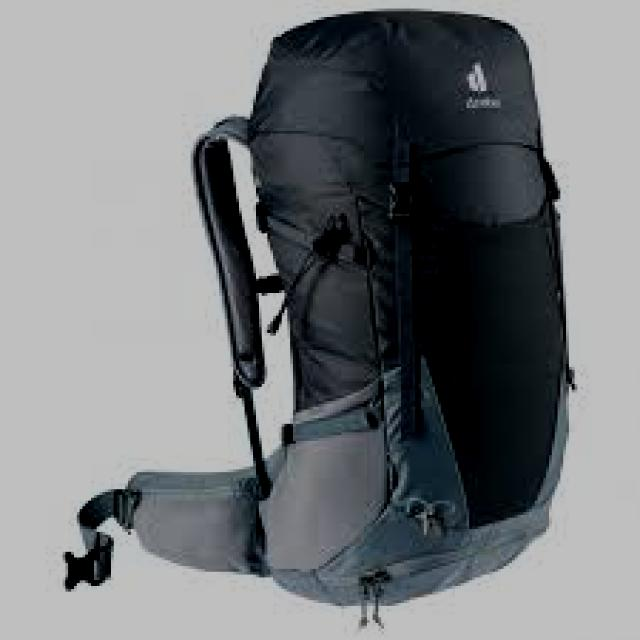backpack: (64, 7, 576, 624)
